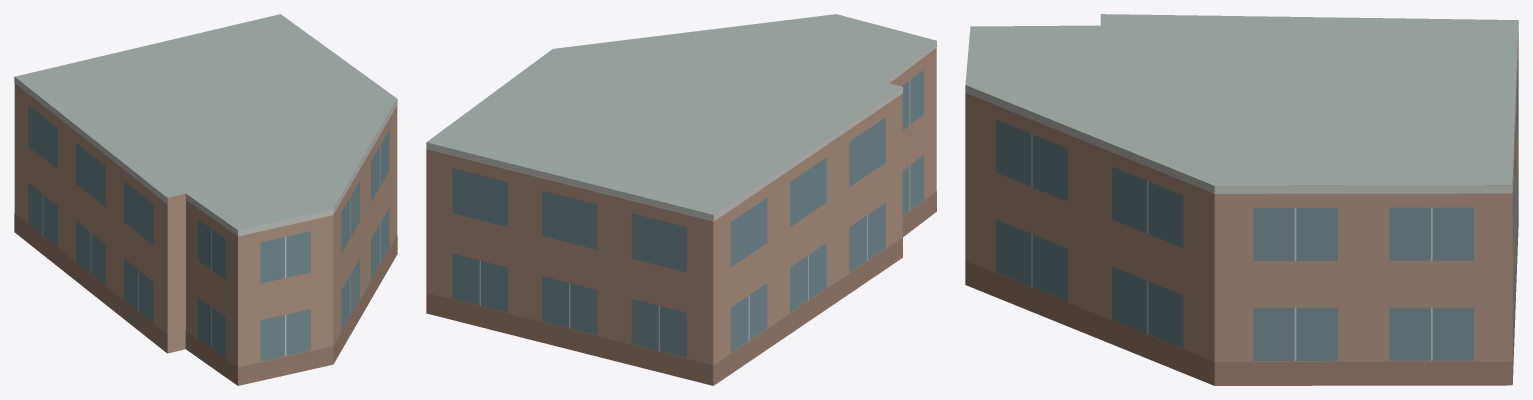
Rendered from survey-upis-33014037.glb.
3 views of the same model, side by side, from view 1: azimuth 30°, elevation 25°; view 2: azimuth 150°, elevation 25°; view 3: azimuth 270°, elevation 25° (orthographic). The views are drawn at different scales.
Parts seen in each view (by area): view 1: survey-upis-33014037.tmp; view 2: survey-upis-33014037.tmp; view 3: survey-upis-33014037.tmp.
Boxes of the visible parts, bbox=[...] form: survey-upis-33014037.tmp: bbox=[14, 14, 397, 385]; survey-upis-33014037.tmp: bbox=[426, 14, 936, 385]; survey-upis-33014037.tmp: bbox=[965, 14, 1518, 385].
Size of the model in its own units: 11.26 by 6.1 by 15.31.
